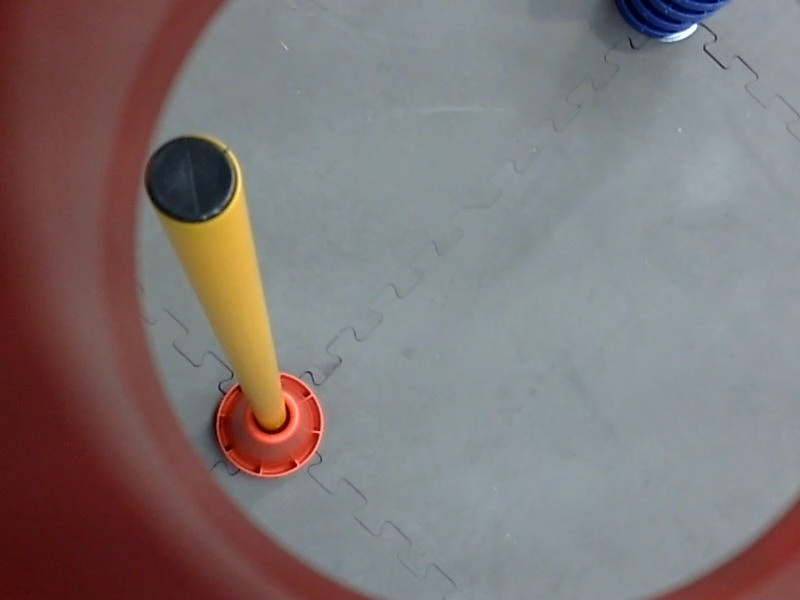tip: (139, 133, 247, 230)
